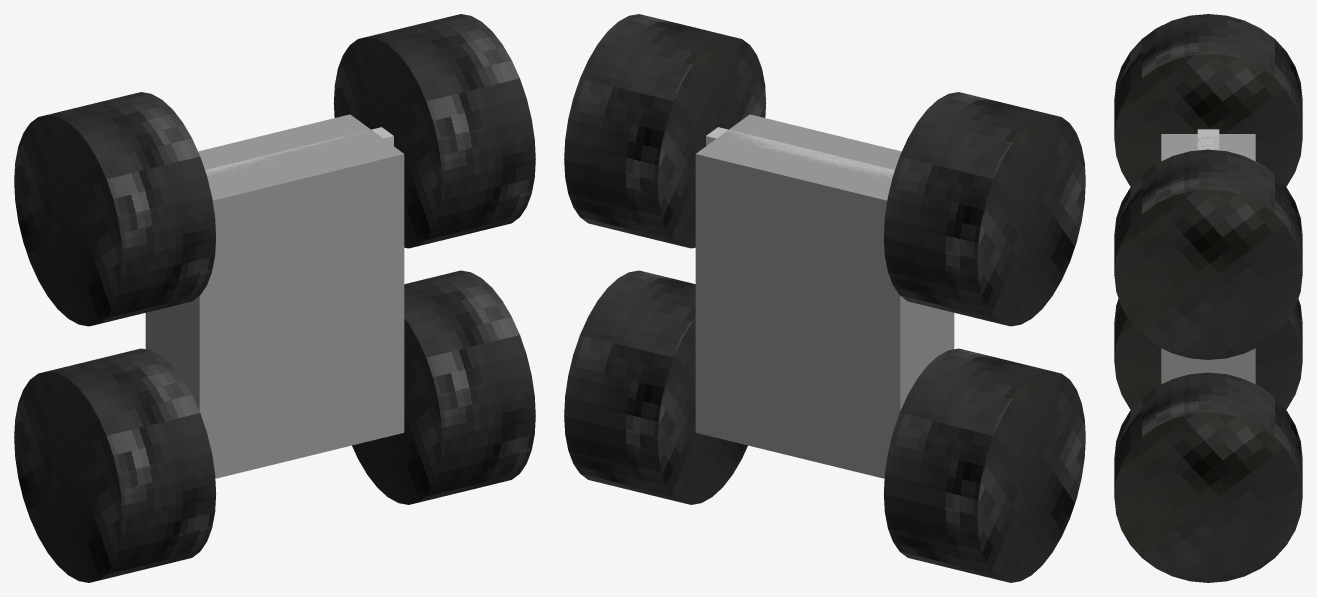
File: car.obj
The picture shows the model from 3 angles, left to right: view 1: azimuth 30°, elevation 25°; view 2: azimuth 150°, elevation 25°; view 3: azimuth 270°, elevation 25°; orthographic projection. The views are drawn at different scales.
Parts seen in each view (by area): view 1: Cube, Cylinder.003, Cylinder.002, Cylinder.001, Cylinder, Cube.002; view 2: Cube, Cylinder.003, Cylinder.002, Cylinder.001, Cylinder, Cube.002; view 3: Cylinder.001, Cylinder, Cylinder.002, Cylinder.003, Cube, Cube.002.
Part boxes in pixels (left/top/right/bottom): Cube: left=145, top=114, right=404, bottom=478; Cylinder.003: left=14, top=348, right=216, bottom=582; Cylinder.002: left=14, top=92, right=216, bottom=326; Cylinder.001: left=333, top=14, right=535, bottom=248; Cylinder: left=352, top=270, right=535, bottom=504; Cube.002: left=205, top=127, right=393, bottom=177; Cube: left=695, top=114, right=954, bottom=478; Cylinder.003: left=883, top=348, right=1085, bottom=582; Cylinder.002: left=883, top=92, right=1085, bottom=326; Cylinder.001: left=564, top=14, right=766, bottom=248; Cylinder: left=564, top=270, right=747, bottom=504; Cube.002: left=706, top=127, right=894, bottom=179; Cylinder.001: left=1114, top=149, right=1302, bottom=359; Cylinder: left=1114, top=372, right=1302, bottom=582; Cylinder.002: left=1114, top=14, right=1302, bottom=186; Cylinder.003: left=1114, top=299, right=1302, bottom=409; Cube: left=1161, top=134, right=1255, bottom=384; Cube.002: left=1197, top=129, right=1219, bottom=150.
Size of the model in its own units: 0.194 by 0.203 by 0.088.
Materials: 3 (1 with a texture image).
